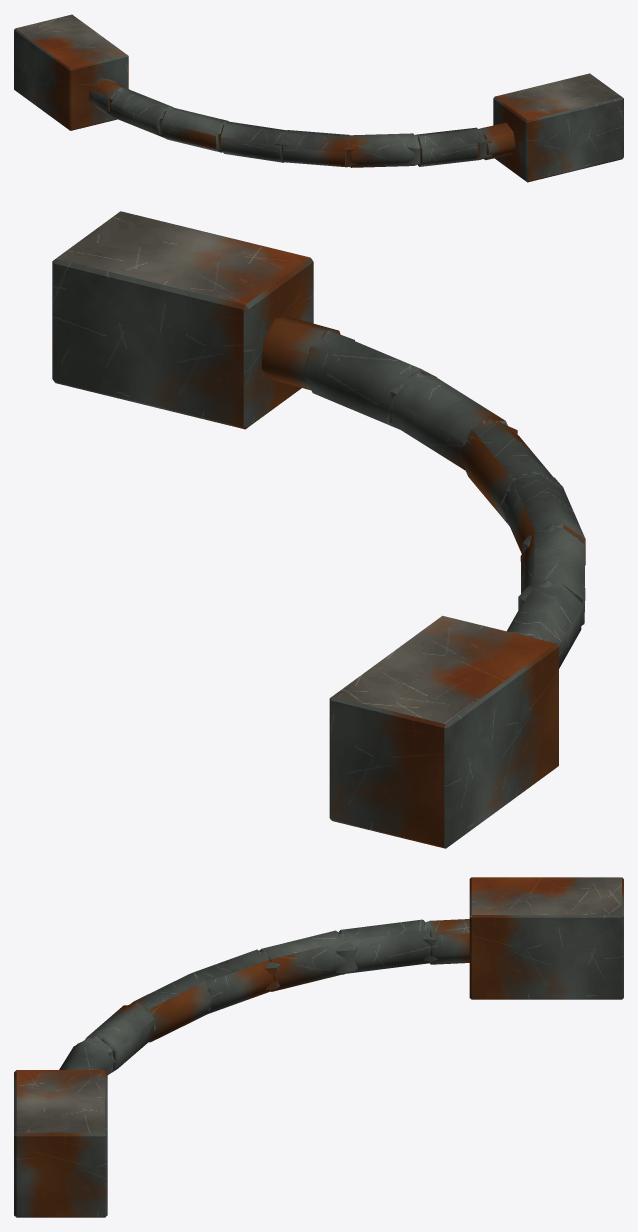
File: R4C_ROD_ARC_LONG_LOD1.glb
3 renders of one model, top to bottom at view 1: azimuth 30°, elevation 25°; view 2: azimuth 150°, elevation 25°; view 3: azimuth 270°, elevation 25°, orthographic. The views are drawn at different scales.
Parts seen in each view (by area): view 1: R4C_ROD_ARC_LONG_LOD1; view 2: R4C_ROD_ARC_LONG_LOD1; view 3: R4C_ROD_ARC_LONG_LOD1.
Part boxes in pixels (x1,y1,x2,y2): R4C_ROD_ARC_LONG_LOD1: (14,14,623,182); R4C_ROD_ARC_LONG_LOD1: (52,211,585,848); R4C_ROD_ARC_LONG_LOD1: (14,877,623,1217).
Bounding box in the file's own units: 1.47 × 0.226 × 1.47.
Materials: 2 (2 with a texture image).
